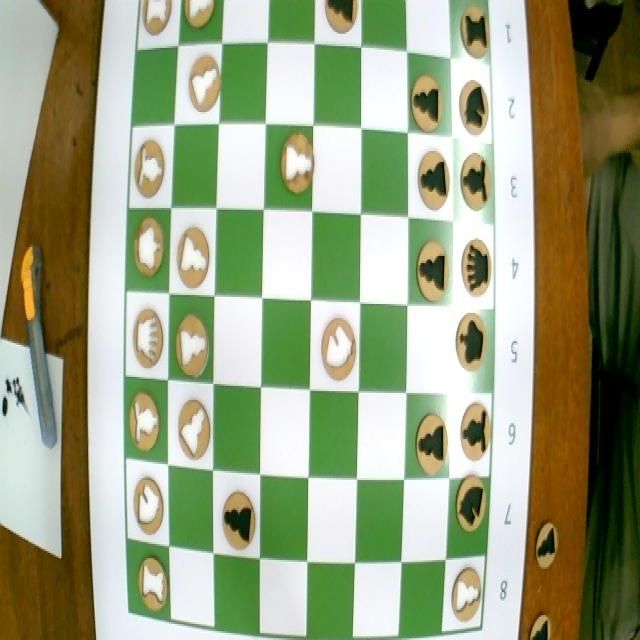chess-pieces: (171, 308, 212, 390), (318, 310, 357, 391), (182, 55, 230, 120), (219, 488, 261, 560), (454, 312, 489, 393), (457, 397, 497, 467), (410, 144, 448, 217), (174, 227, 218, 289), (281, 131, 317, 206), (131, 470, 168, 542), (130, 215, 166, 289), (128, 307, 167, 374), (415, 244, 451, 315), (450, 568, 489, 633), (452, 472, 490, 538), (176, 396, 211, 465), (131, 135, 165, 206), (460, 147, 496, 214), (126, 388, 160, 456), (458, 238, 494, 300), (136, 552, 171, 615), (415, 412, 451, 472), (410, 74, 443, 136), (457, 5, 492, 61), (459, 80, 491, 140), (178, 0, 216, 46), (318, 0, 361, 34), (139, 0, 173, 41)
